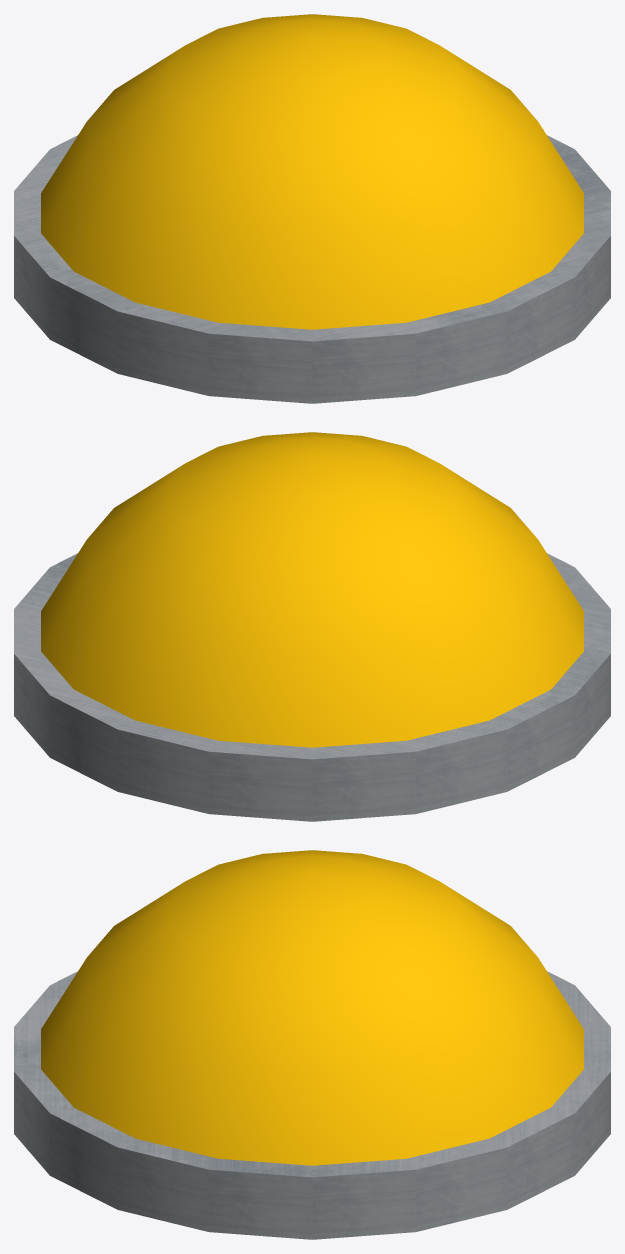
Rendered from SecurityCam-Type-0.obj.
3 renders of one model, top to bottom at view 1: azimuth 30°, elevation 25°; view 2: azimuth 150°, elevation 25°; view 3: azimuth 270°, elevation 25°, orthographic.
Parts seen in each view (by area): view 1: SecurityCam-Type-0; view 2: SecurityCam-Type-0; view 3: SecurityCam-Type-0.
Boxes of the visible parts, <box> form: SecurityCam-Type-0: <box>14,14,610,403</box>; SecurityCam-Type-0: <box>14,432,610,821</box>; SecurityCam-Type-0: <box>14,850,610,1239</box>.
Size of the model in its own units: 0.44 by 0.19 by 0.4333.
